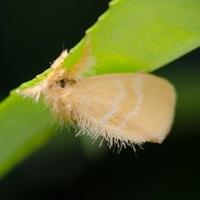insect: (16, 50, 175, 155)
